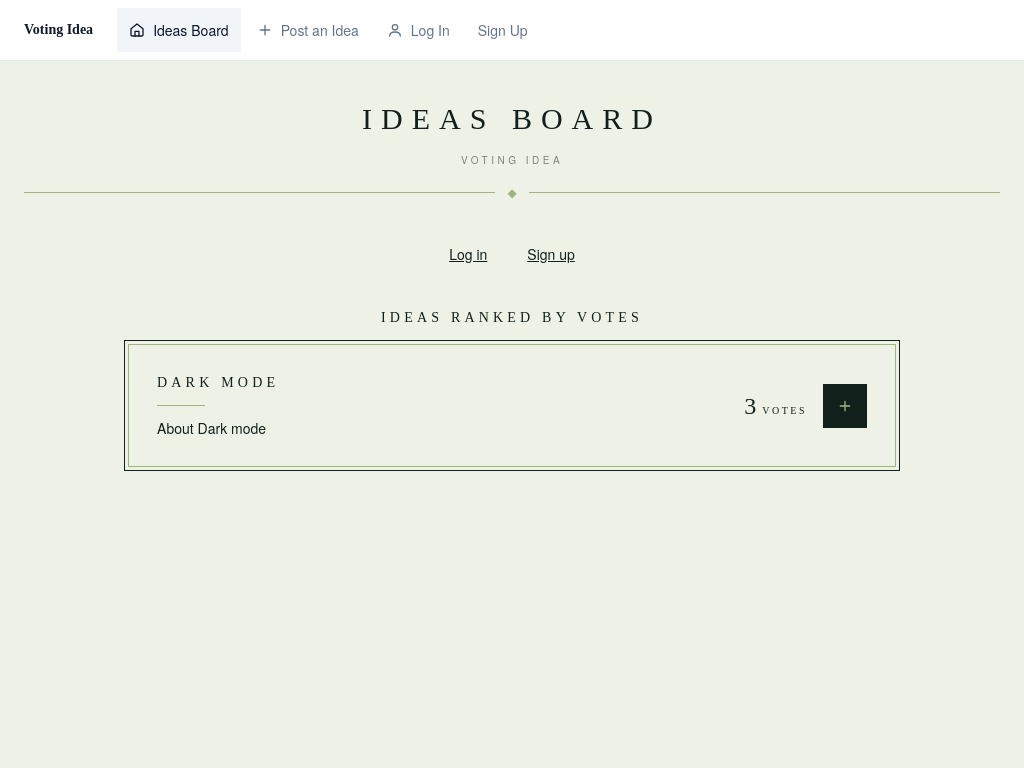
Test case: Board log out › [AC-033] a visitor can go to the sign up screen from the prompt
What coordinates should you click on to do the following:
click the button named "Vote for Dark mode"
I would click on:
 (845, 406)
Its box is x1=823 y1=384 x2=867 y2=428.
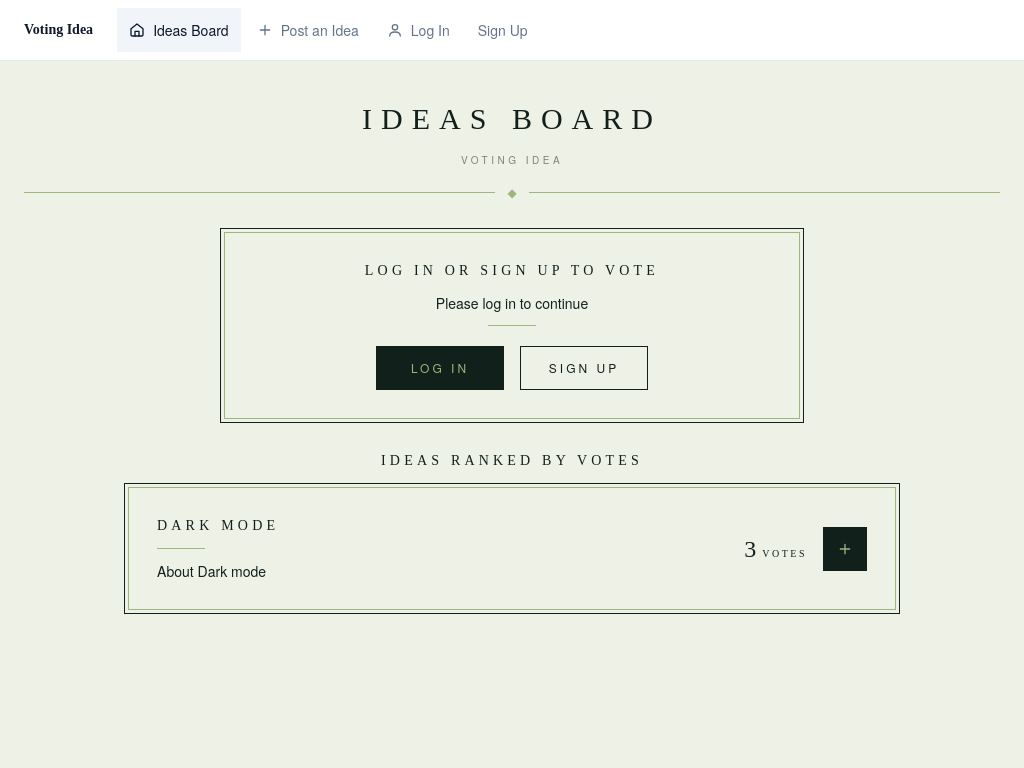
What coordinates should you click on to do the following:
click the button with test id "sign-up-link"
I would click on:
 (584, 368)
Its box is x1=520 y1=346 x2=648 y2=390.
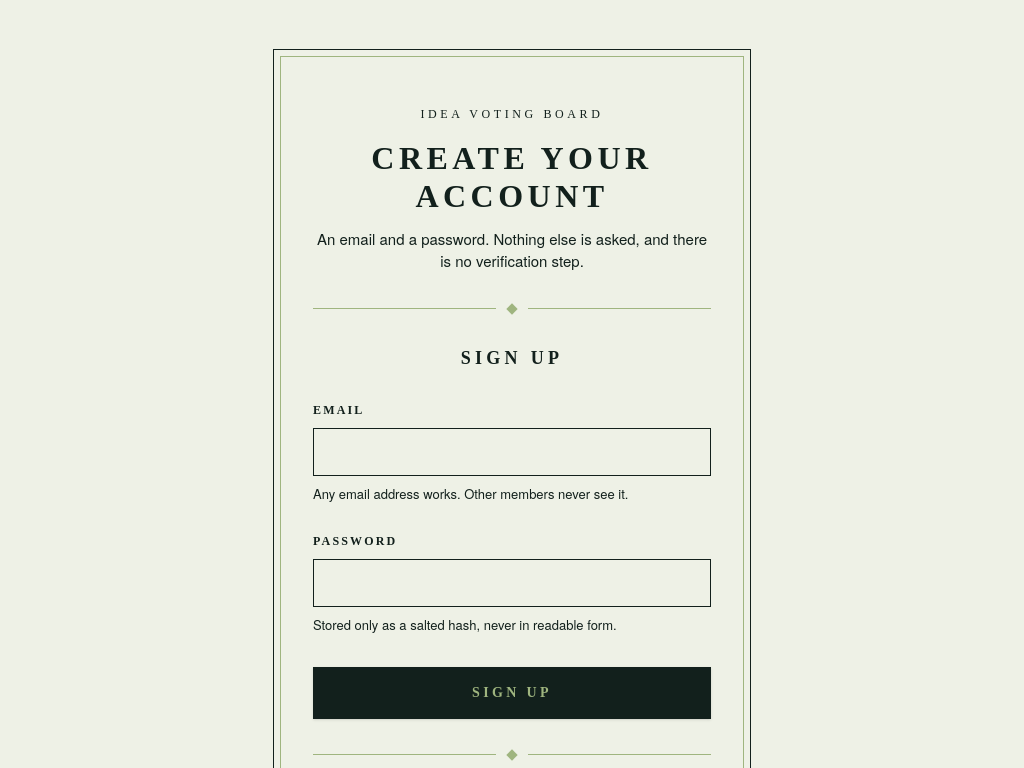
Check: the heading with test id "ideas-board-title" is gone
